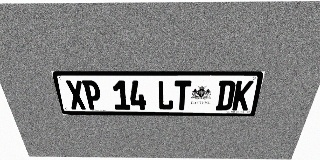1: (111, 80, 130, 110)
4: (129, 80, 146, 110)
D: (215, 80, 236, 110)
K: (232, 81, 254, 110)
L: (157, 80, 174, 110)
P: (82, 80, 103, 110)
T: (174, 80, 191, 110)
X: (65, 80, 87, 109)
